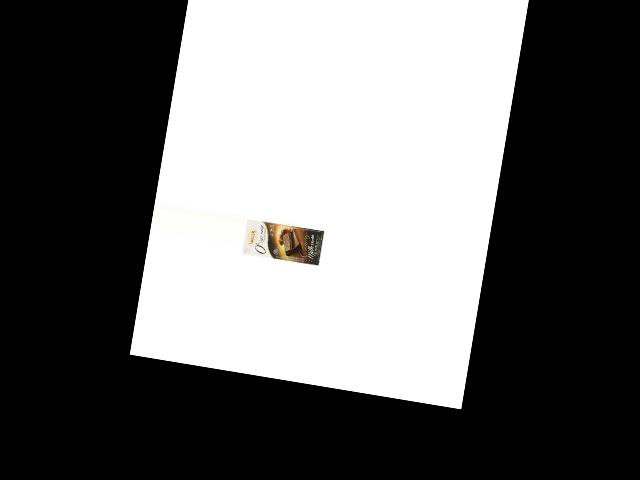chocolate: (241, 217, 325, 268)
